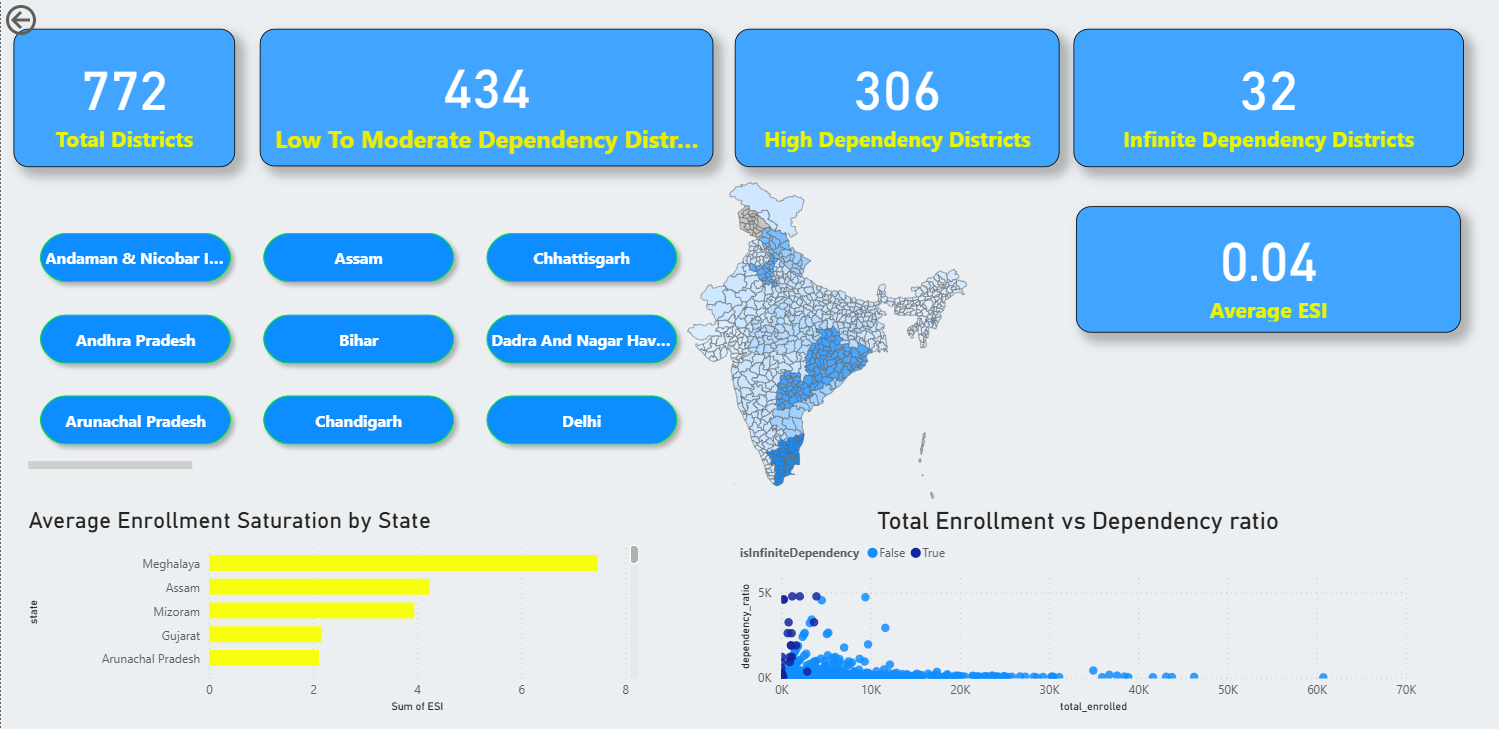

The page's visual inventory and layout, read from the dashboard file:
{"tool":"powerbi","page":{"name":"Demographic Overview & Preprocessing","canvas":[1500,730],"ordinal":0},"visuals":[{"type":"card","fields":{"Values":["uidai_district_enrollment_profile.Total Districts"]},"box":[12.5,28.8,221.2,138.8],"z":0},{"type":"card","fields":{"Values":["uidai_district_enrollment_profile.Average ESI"]},"box":[1075,206.2,385,126.2],"z":1000},{"type":"card","fields":{"Values":["uidai_district_enrollment_profile.High Dependency Districts"]},"box":[733.8,28.8,325,138.8],"z":2000},{"type":"card","fields":{"Values":["uidai_district_enrollment_profile.Infinite Dependency Districts"]},"box":[1072.5,28.8,390,138.8],"z":3000},{"type":"advancedSlicerVisual","fields":{"Values":["uidai_district_enrollment_profile.state"]},"box":[22.5,216.2,673.8,260],"z":4000},{"type":"actionButton","box":[0,0,100,40],"z":5000},{"type":"scatterChart","title":"Total Enrollment vs Dependency ratio","fields":{"X":["uidai_district_enrollment_profile.total_enrolled"],"Y":["uidai_district_enrollment_profile.dependency_ratio"],"Series":["uidai_district_enrollment_profile.isInfiniteDependency"]},"box":[733.8,506.2,686.2,211.2],"z":6000},{"type":"clusteredBarChart","title":"Average Enrollment Saturation by State","fields":{"Category":["uidai_district_enrollment_profile.state"],"Y":["Sum(uidai_district_enrollment_profile.ESI)"]},"box":[22.5,506.2,620,211.2],"z":7000},{"type":"card","fields":{"Values":["uidai_district_enrollment_profile.Low To Moderate Dependency Districts"]},"box":[258.8,28.8,453.8,137.5],"z":8000},{"type":"shapeMap","fields":{"Category":["uidai_district_enrollment_profile.state"],"Value":["Avg(uidai_district_enrollment_profile.dependency_ratio)"]},"box":[385,160,882.5,361.2],"z":9000}]}

Visuals, with their boxes in screenshot pixels (x1, y1, x2, y2), scaled from the page's 1500x730 canvas onto the 1499x729 screenshot:
card - uidai_district_enrollment_profile.Total Districts: bbox=(12, 29, 234, 167)
card - uidai_district_enrollment_profile.Average ESI: bbox=(1074, 206, 1459, 332)
card - uidai_district_enrollment_profile.High Dependency Districts: bbox=(733, 29, 1058, 167)
card - uidai_district_enrollment_profile.Infinite Dependency Districts: bbox=(1072, 29, 1462, 167)
advancedSlicerVisual - uidai_district_enrollment_profile.state: bbox=(22, 216, 696, 476)
actionButton: bbox=(0, 0, 100, 40)
"Total Enrollment vs Dependency ratio" scatterChart: bbox=(733, 506, 1419, 716)
"Average Enrollment Saturation by State" clusteredBarChart: bbox=(22, 506, 642, 716)
card - uidai_district_enrollment_profile.Low To Moderate Dependency Districts: bbox=(259, 29, 712, 166)
shapeMap - uidai_district_enrollment_profile.state x Avg(uidai_district_enrollment_profile.dependency_ratio): bbox=(385, 160, 1267, 520)
